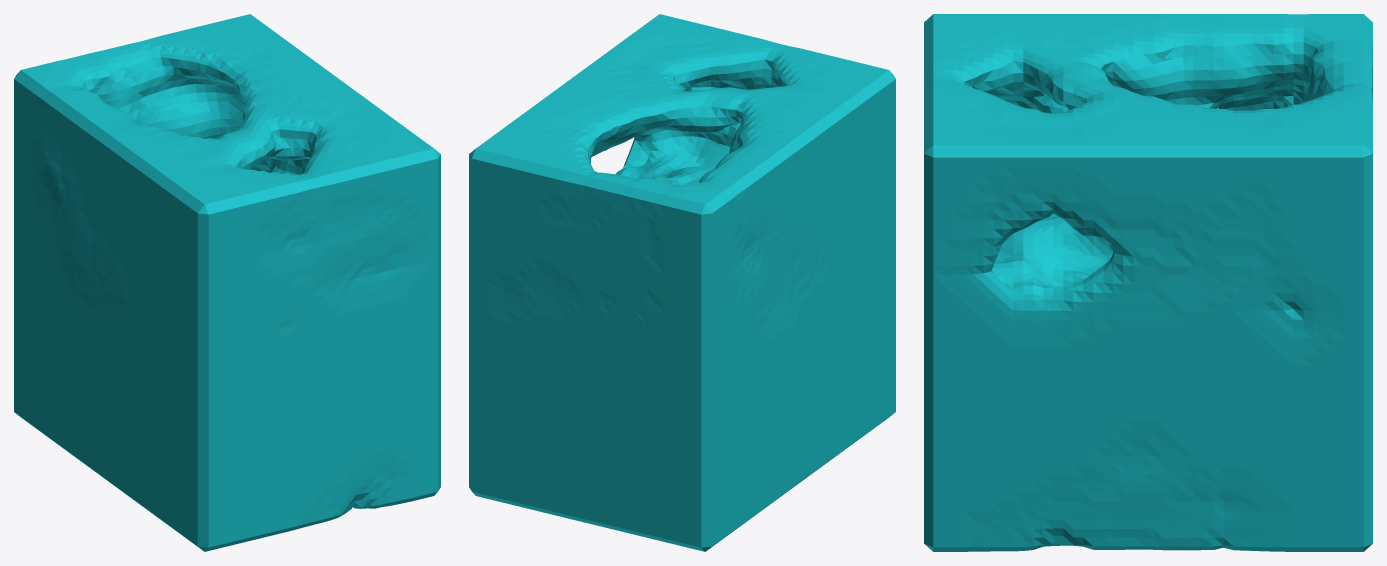
The picture shows the model from 3 angles, left to right: view 1: azimuth 30°, elevation 25°; view 2: azimuth 150°, elevation 25°; view 3: azimuth 270°, elevation 25°; orthographic projection. The views are drawn at different scales.
Parts seen in each view (by area): view 1: Liquid_Domain; view 2: Liquid_Domain; view 3: Liquid_Domain.
Part boxes in pixels (x1,y1,x2,y2): Liquid_Domain: [14, 14, 440, 551]; Liquid_Domain: [469, 14, 895, 551]; Liquid_Domain: [924, 14, 1372, 551].
Bounding box in the file's own units: 79.09 × 108 × 108.
